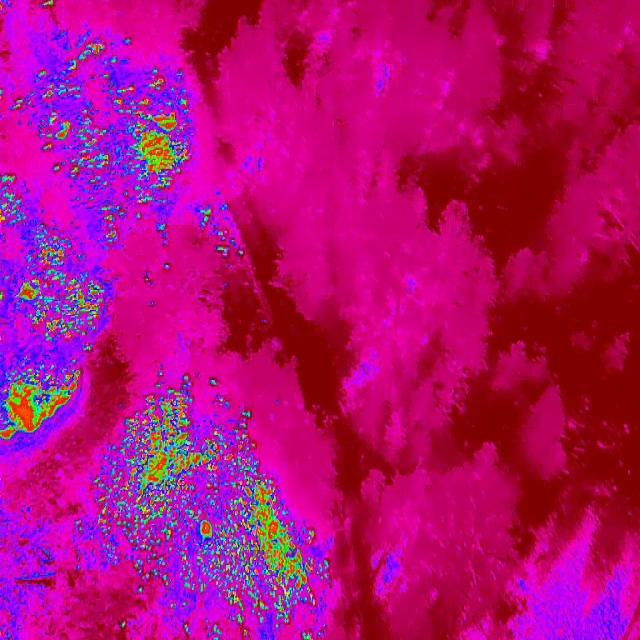fire: (96, 368, 332, 612), (13, 38, 194, 188), (0, 226, 107, 352), (92, 189, 170, 289), (0, 364, 83, 448), (179, 613, 329, 639), (194, 199, 253, 262), (0, 169, 33, 232), (69, 516, 89, 576), (37, 0, 59, 11), (118, 619, 130, 633)
